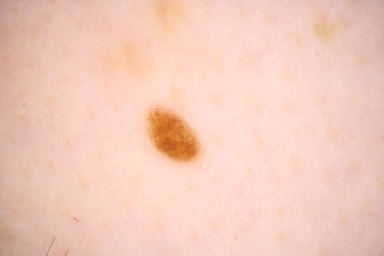nevus: (146, 108, 199, 161)
